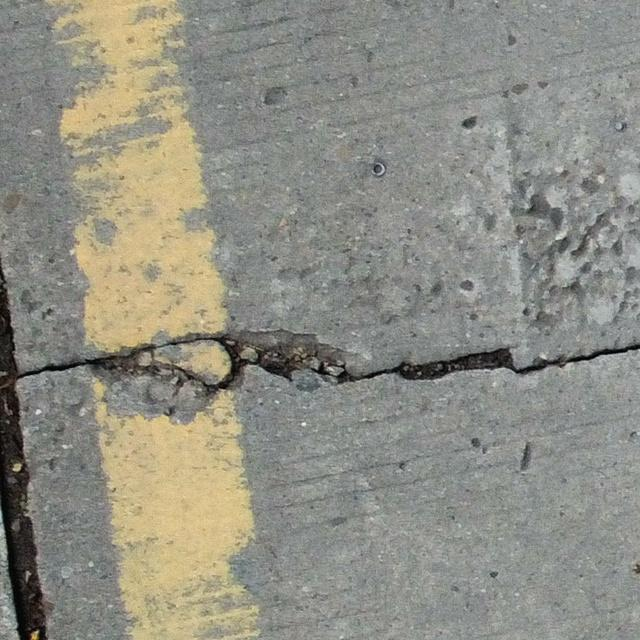LongitudinalCrack: (1, 258, 49, 639)
TransverseCrack: (15, 328, 640, 399)
